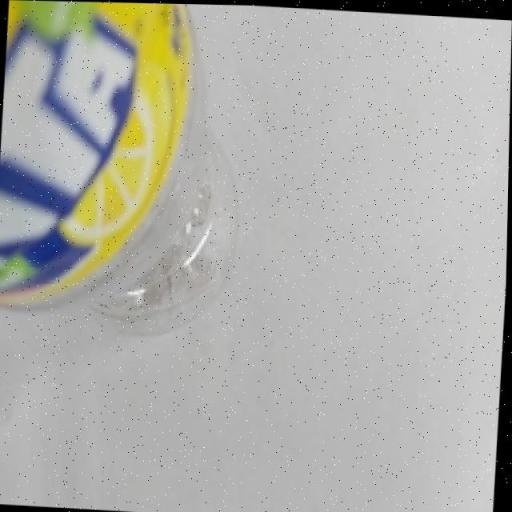plastic: (0, 0, 266, 350)
